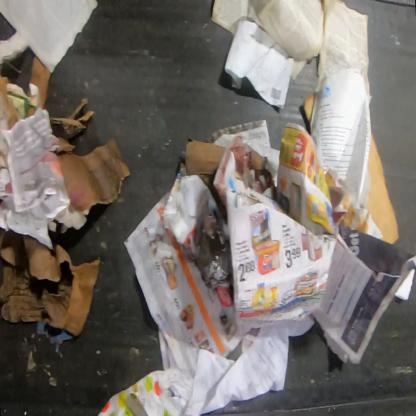cardboard: (0, 231, 102, 338), (57, 133, 131, 210), (366, 131, 400, 243), (184, 137, 226, 187), (6, 83, 40, 121), (29, 52, 51, 109), (0, 74, 20, 130), (302, 92, 317, 124)
